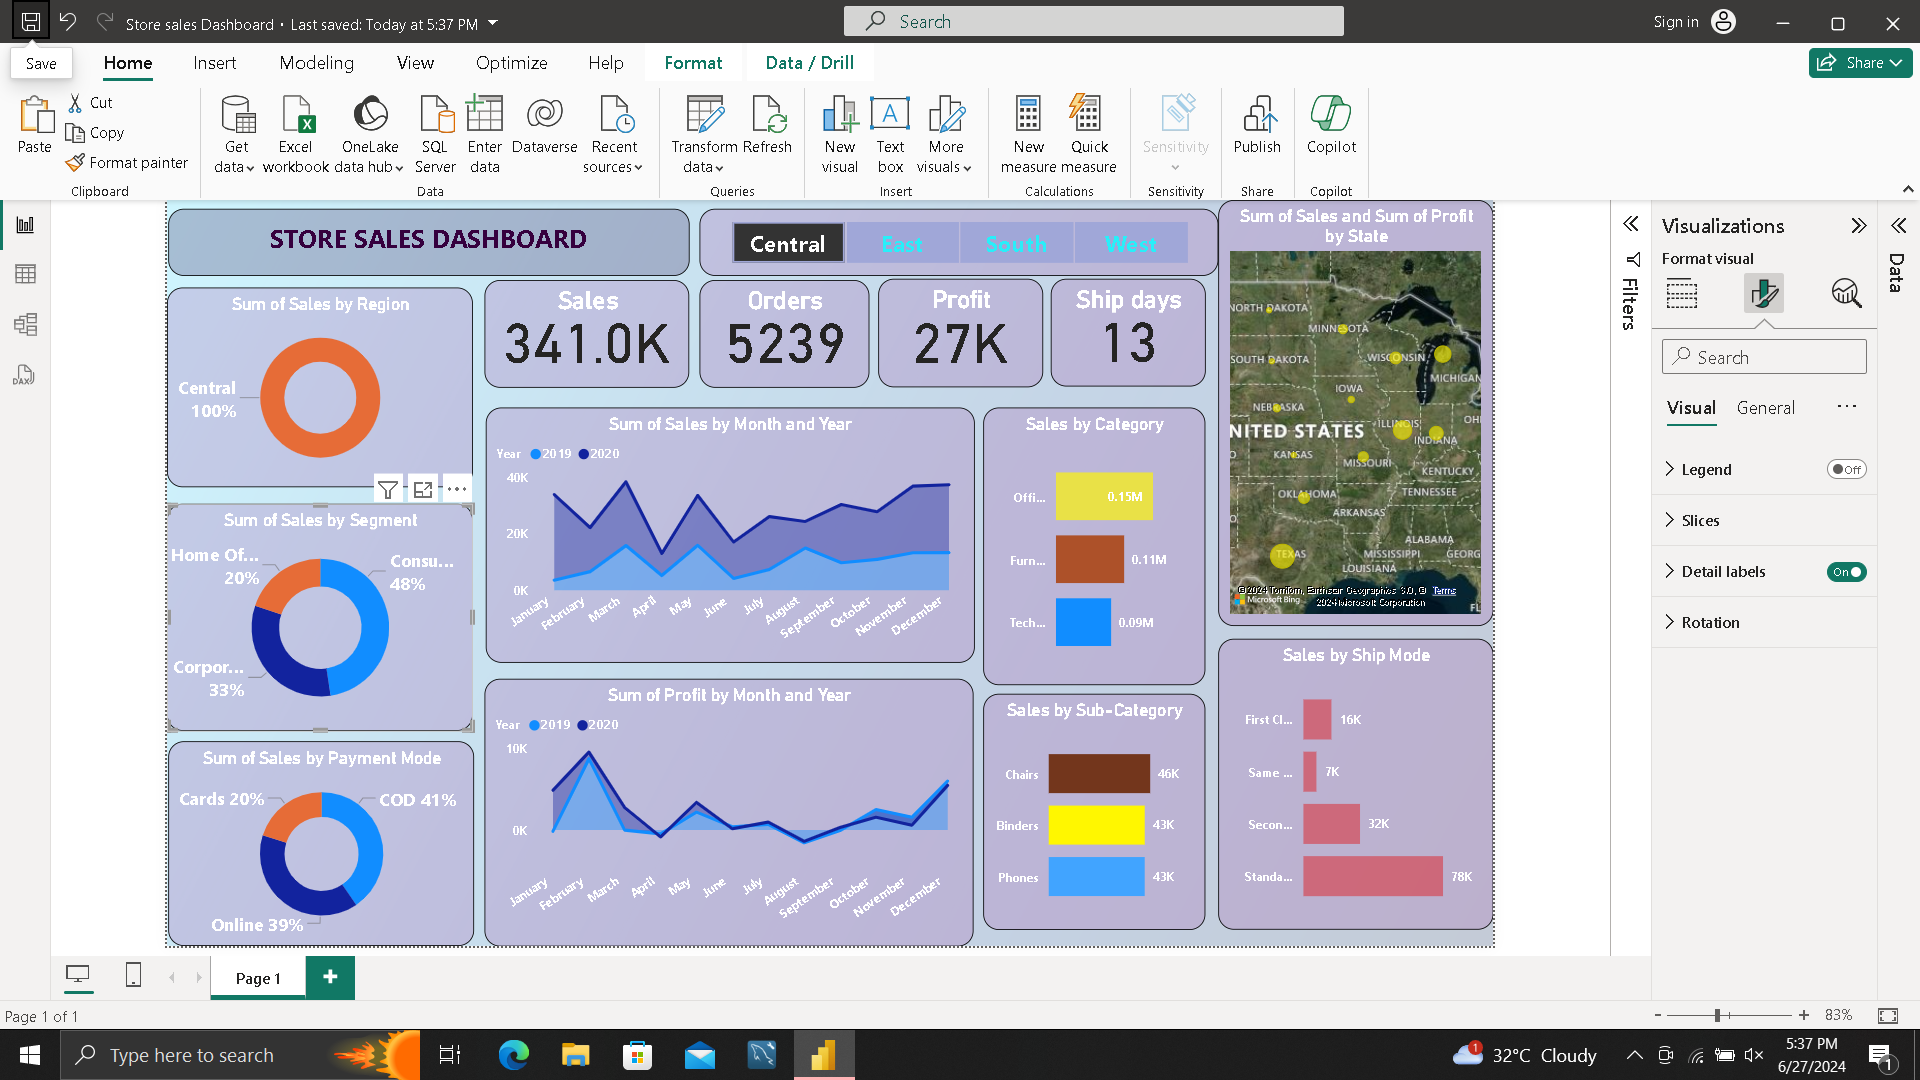

Layout of this report page (visuals, bound fields, positions):
{"tool":"powerbi","page":{"name":"Dashboard","canvas":[1280,720],"ordinal":0},"visuals":[{"type":"barChart","title":" Sales by Category","fields":{"Category":["SuperStore_Sales_Dataset.Category"],"Y":["Sum(SuperStore_Sales_Dataset.Sales)"]},"box":[787.8,200.3,214.7,267.8],"z":0},{"type":"barChart","title":"Sales by Ship Mode","fields":{"Category":["SuperStore_Sales_Dataset.Ship Mode","SuperStore_Sales_Dataset.Sub-Category","SuperStore_Sales_Dataset.Order Date.Variation.Date Hierarchy.Year","SuperStore_Sales_Dataset.Order Date.Variation.Date Hierarchy.Quarter","SuperStore_Sales_Dataset.Order Date.Variation.Date Hierarchy.Month","SuperStore_Sales_Dataset.Order Date.Variation.Date Hierarchy.Day"],"Y":["Sum(SuperStore_Sales_Dataset.Sales)"]},"box":[1014.6,423.5,265.4,281.1],"z":1000},{"type":"barChart","title":"Sales by Sub-Category","fields":{"Category":["SuperStore_Sales_Dataset.Sub-Category"],"Y":["Sum(SuperStore_Sales_Dataset.Sales)"]},"box":[787.8,476.5,214.7,228],"z":2000},{"type":"stackedAreaChart","fields":{"Category":["SuperStore_Sales_Dataset.Order Date.Variation.Date Hierarchy.Month","SuperStore_Sales_Dataset.Order Date.Variation.Date Hierarchy.Day"],"Y":["Sum(SuperStore_Sales_Dataset.Sales)"],"Series":["SuperStore_Sales_Dataset.Order Date.Variation.Date Hierarchy.Year"]},"box":[307.6,200.3,471.7,246.1],"z":3000},{"type":"stackedAreaChart","fields":{"Category":["SuperStore_Sales_Dataset.Order Date.Variation.Date Hierarchy.Month","SuperStore_Sales_Dataset.Order Date.Variation.Date Hierarchy.Day"],"Series":["SuperStore_Sales_Dataset.Order Date.Variation.Date Hierarchy.Year"],"Y":["Sum(SuperStore_Sales_Dataset.Profit)"]},"box":[306.4,462.1,471.7,258.2],"z":4000},{"type":"map","fields":{"Category":["SuperStore_Sales_Dataset.State"],"Size":["Sum(SuperStore_Sales_Dataset.Sales)"]},"box":[1014.6,0,265.4,411.4],"z":5000},{"type":"donutChart","fields":{"Category":["SuperStore_Sales_Dataset.Segment"],"Y":["Sum(SuperStore_Sales_Dataset.Sales)"]},"box":[0,293.2,295.6,219.6],"z":6000},{"type":"donutChart","fields":{"Category":["SuperStore_Sales_Dataset.Payment Mode"],"Y":["Sum(SuperStore_Sales_Dataset.Sales)"]},"box":[1.2,522.4,295.6,197.9],"z":7000},{"type":"slicer","fields":{"Values":["SuperStore_Sales_Dataset.Region"]},"box":[513.9,8.4,500.7,65.1],"z":8000},{"type":"textbox","box":[1.2,8.4,503.1,65.1],"z":9000},{"type":"card","title":"Sales","fields":{"Values":["Sum(SuperStore_Sales_Dataset.Sales)"]},"box":[306.4,77.2,197.9,103.8],"z":10000},{"type":"card","title":"Orders","fields":{"Values":["Sum(SuperStore_Sales_Dataset.Quantity)"]},"box":[513.9,77.2,164.1,103.8],"z":11000},{"type":"card","title":"Profit","fields":{"Values":["Sum(SuperStore_Sales_Dataset.Profit)"]},"box":[686.5,76,159.3,105],"z":12000},{"type":"card","title":"Ship days","fields":{"Values":["Avg(SuperStore_Sales_Dataset.AvgDelivery)"]},"box":[853,76,149.6,103.8],"z":13000},{"type":"donutChart","fields":{"Category":["SuperStore_Sales_Dataset.Region","SuperStore_Sales_Dataset.Segment"],"Y":["Sum(SuperStore_Sales_Dataset.Sales)"]},"box":[0,84.5,295.6,193],"z":14000}]}

Visuals, with their boxes on the page's 1280x720 design canvas (x1, y1, x2, y2). These are canvas units, not pixel positions in the 1920x1080 screenshot, which may show the page scaled, cropped or inside an application window:
" Sales by Category" barChart: box(788, 200, 1002, 468)
"Sales by Ship Mode" barChart: box(1015, 424, 1280, 705)
"Sales by Sub-Category" barChart: box(788, 476, 1002, 704)
stackedAreaChart - SuperStore_Sales_Dataset.Order Date.Variation.Date Hierarchy.Month x SuperStore_Sales_Dataset.Order Date.Variation.Date Hierarchy.Day: box(308, 200, 779, 446)
stackedAreaChart - SuperStore_Sales_Dataset.Order Date.Variation.Date Hierarchy.Month x SuperStore_Sales_Dataset.Order Date.Variation.Date Hierarchy.Day: box(306, 462, 778, 720)
map - SuperStore_Sales_Dataset.State x Sum(SuperStore_Sales_Dataset.Sales): box(1015, 0, 1280, 411)
donutChart - SuperStore_Sales_Dataset.Segment x Sum(SuperStore_Sales_Dataset.Sales): box(0, 293, 296, 513)
donutChart - SuperStore_Sales_Dataset.Payment Mode x Sum(SuperStore_Sales_Dataset.Sales): box(1, 522, 297, 720)
slicer - SuperStore_Sales_Dataset.Region: box(514, 8, 1015, 74)
textbox: box(1, 8, 504, 74)
"Sales" card: box(306, 77, 504, 181)
"Orders" card: box(514, 77, 678, 181)
"Profit" card: box(686, 76, 846, 181)
"Ship days" card: box(853, 76, 1003, 180)
donutChart - SuperStore_Sales_Dataset.Region x SuperStore_Sales_Dataset.Segment: box(0, 84, 296, 278)
